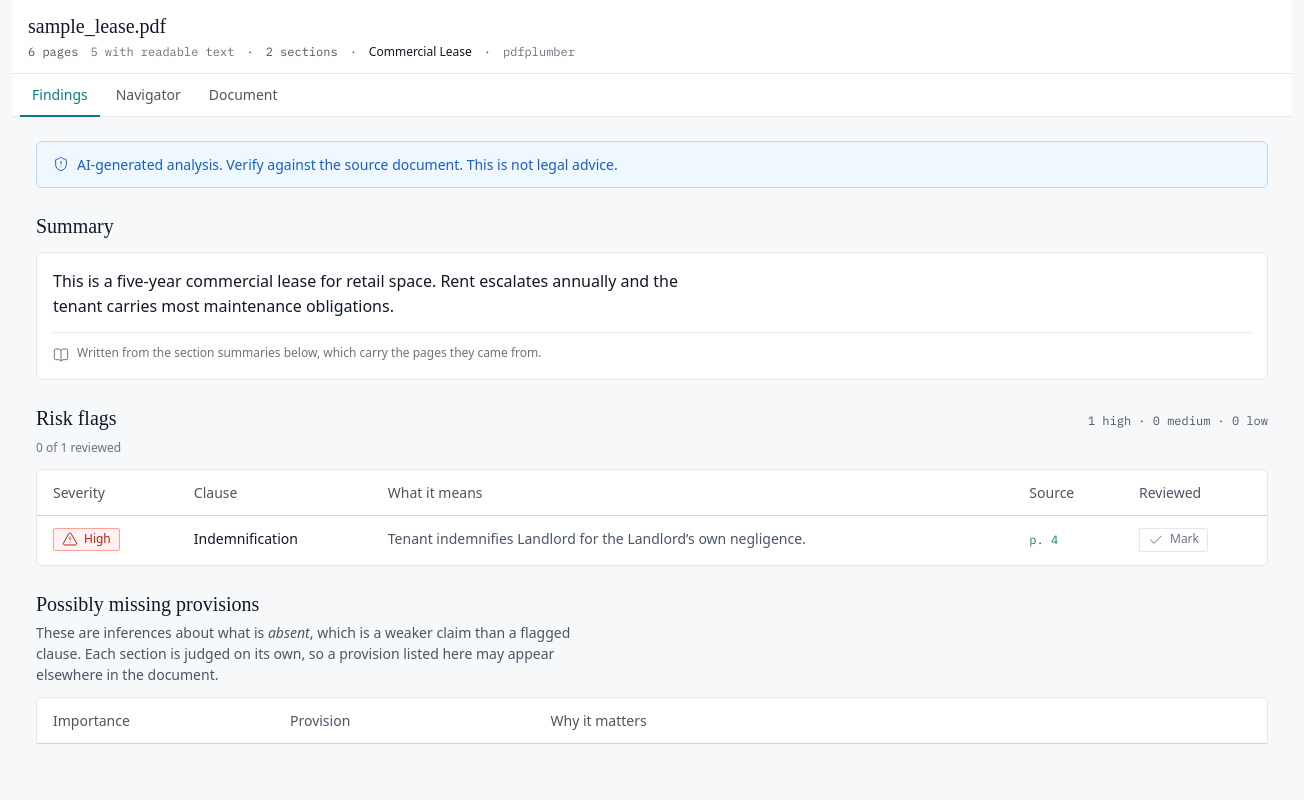
narrow viewport › reaches the navigator too
Click the tab "Navigator": coordinates (148, 95) [104, 74, 193, 117]
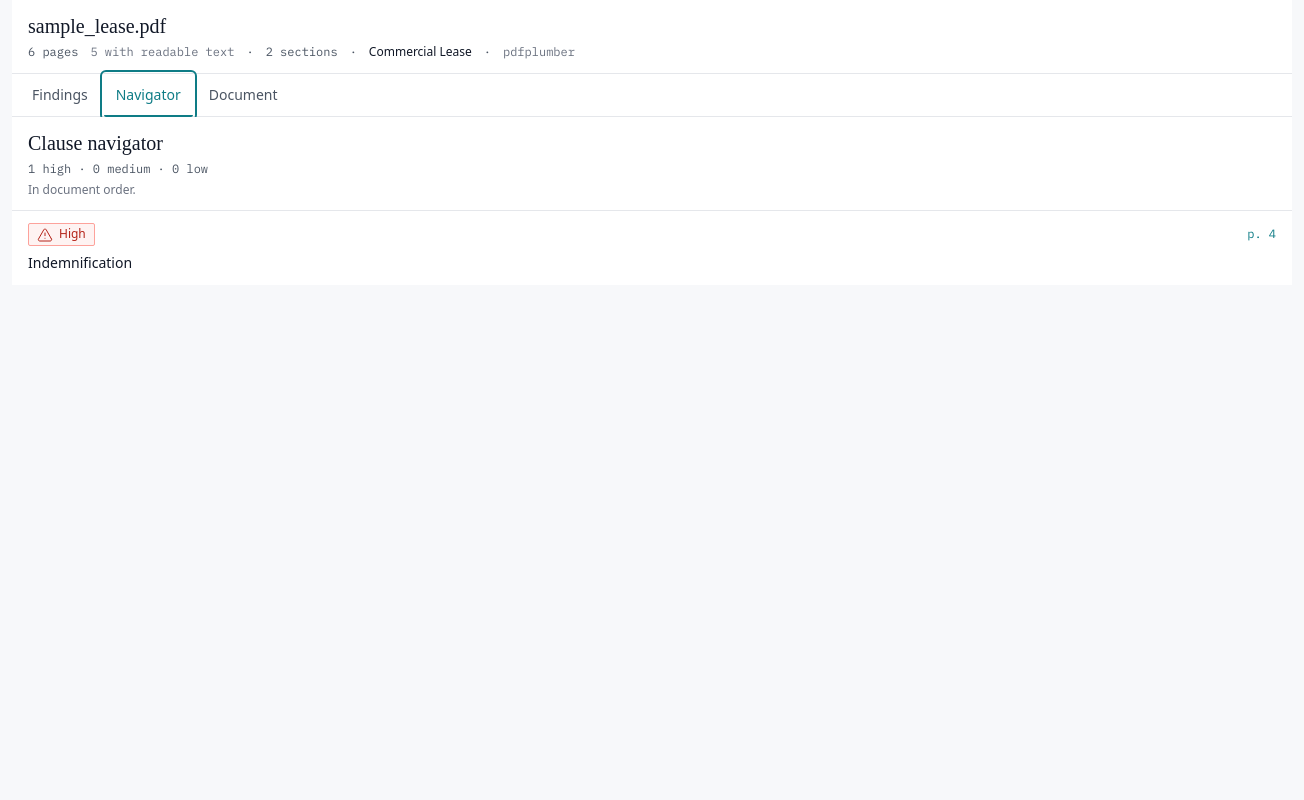
Now the navigation bar named "flagged clauses" is shown
